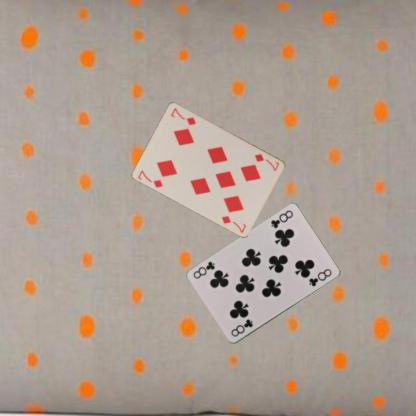7d: (135, 167, 164, 189), (252, 151, 281, 172)
8c: (268, 208, 294, 230), (228, 317, 254, 338)
